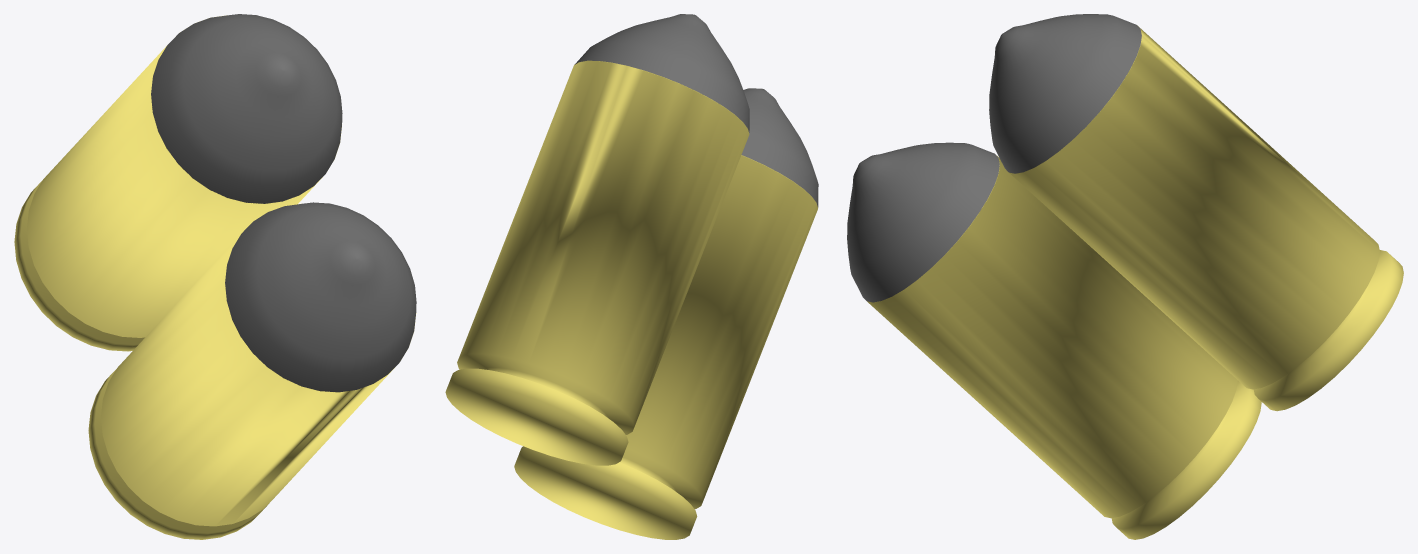
File: Bullets.glb
3 renders of one model, left to right at view 1: azimuth 30°, elevation 25°; view 2: azimuth 150°, elevation 25°; view 3: azimuth 270°, elevation 25°, orthographic. The views are drawn at different scales.
Visible parts, largest first — view 1: Cylinder.001; view 2: Cylinder.001; view 3: Cylinder.001.
Boxes of the visible parts, x1,y1,x2,y2 form: Cylinder.001: (14, 14, 416, 539); Cylinder.001: (445, 14, 818, 539); Cylinder.001: (847, 14, 1403, 539).
Size of the model in its own units: 0.7154 by 2.03 by 2.03.
